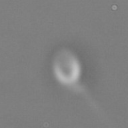normal: (72, 82, 109, 128)
